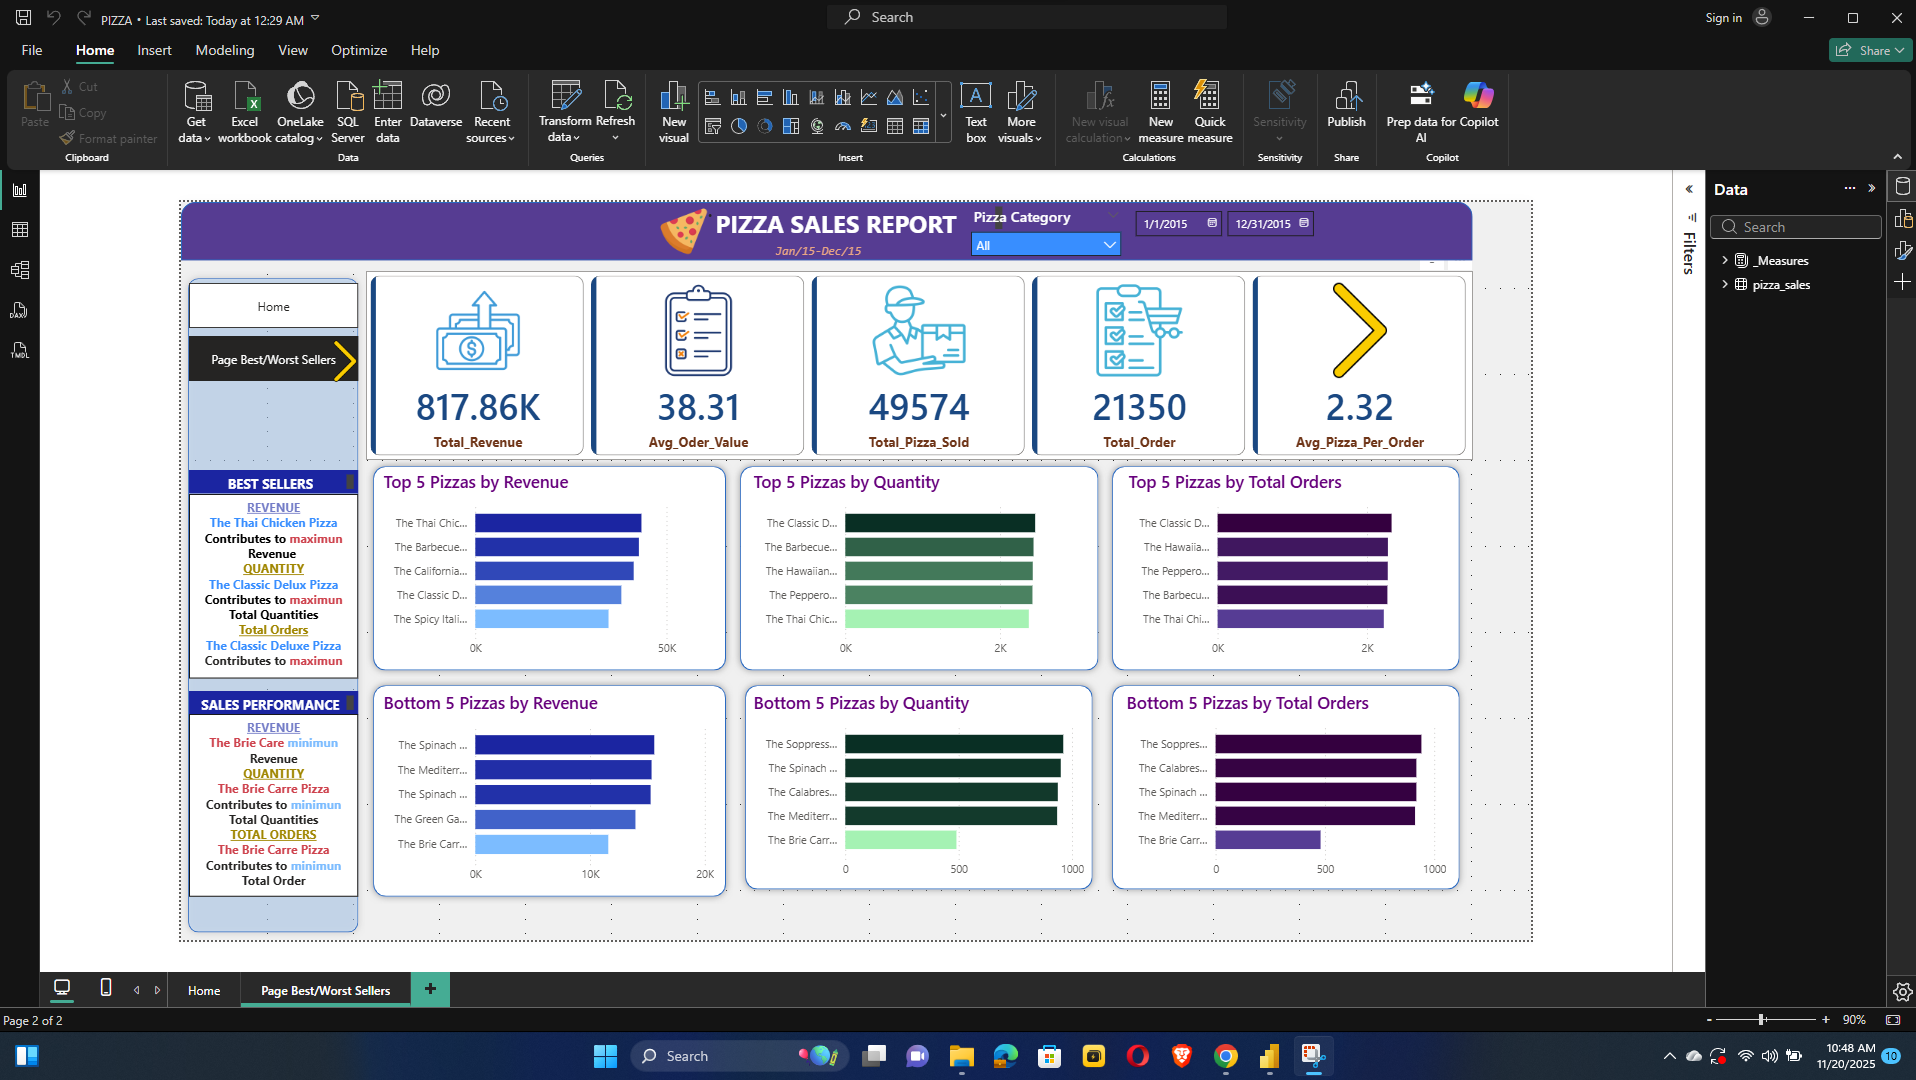

Layout of this report page (visuals, bound fields, positions):
{"tool":"powerbi","page":{"name":"Page Best/Worst Sellers","canvas":[1500,820],"ordinal":1},"visuals":[{"type":"shape","box":[0,77,205,743],"z":0},{"type":"textbox","box":[9,298,188,26],"z":1000},{"type":"cardVisual","fields":{"Data":["_Measures.Total_Revenue","_Measures.Avg_Oder_Value","_Measures.Total_Pizza_Sold","_Measures.Total_Order","_Measures.Avg_Pizza_Per_Order"]},"box":[205,76.2,1230,210],"z":2000},{"type":"shape","box":[0,0,1435,65],"z":3000},{"type":"textbox","box":[526.2,0,391.2,40],"z":4000},{"type":"textbox","box":[655,40,123.8,27.5],"z":5000},{"type":"image","box":[526.2,0,63.8,65],"z":6000},{"type":"shape","box":[205,286,408,243],"z":7000},{"type":"shape","box":[613,286,414,243],"z":8000},{"type":"shape","box":[1027,286,402,243],"z":9000},{"type":"textbox","box":[9,324,188,205],"z":10000},{"type":"textbox","box":[9,543,188,26],"z":11000},{"type":"textbox","box":[9,569,188,203],"z":12000},{"type":"slicer","fields":{"Values":["pizza_sales.pizza_category"]},"box":[868,0,187,65],"z":13000},{"type":"slicer","fields":{"Values":["pizza_sales.order_date"]},"box":[1048,0,232,65],"z":14000},{"type":"shape","box":[205,529,408,251],"z":15000},{"type":"shape","box":[1027,529,402,243],"z":16000},{"type":"shape","box":[619,529,402,243],"z":17000},{"type":"clusteredBarChart","title":"Top 5 Pizzas by Revenue","fields":{"Category":["pizza_sales.pizza_name"],"Y":["_Measures.Total_Revenue"]},"box":[220,298,377,216],"z":18000},{"type":"clusteredBarChart","title":"Bottom 5 Pizzas by Revenue","fields":{"Category":["pizza_sales.pizza_name"],"Y":["_Measures.Total_Revenue"]},"box":[220,543,377,222],"z":18001},{"type":"clusteredBarChart","title":"Top 5 Pizzas by Quantity","fields":{"Category":["pizza_sales.pizza_name"],"Y":["_Measures.Total_Pizza_Sold"]},"box":[631,298,377,216],"z":18002},{"type":"clusteredBarChart","title":"Bottom 5 Pizzas by Quantity","fields":{"Category":["pizza_sales.pizza_name"],"Y":["_Measures.Total_Pizza_Sold"]},"box":[631,543,377,216],"z":18003},{"type":"clusteredBarChart","title":"Top 5 Pizzas by Total Orders","fields":{"Category":["pizza_sales.pizza_name"],"Y":["_Measures.Total_Order"]},"box":[1048,298,365,216],"z":18004},{"type":"clusteredBarChart","title":"Bottom 5 Pizzas by Total Orders","fields":{"Category":["pizza_sales.pizza_name"],"Y":["_Measures.Total_Order"]},"box":[1045,543,365,216],"z":18005},{"type":"pageNavigator","box":[9,90,188,50],"z":18006},{"type":"pageNavigator","box":[9,149,188,50],"z":18007},{"type":"image","box":[146,149,74,56],"z":18008}]}

Visuals, with their boxes on the page's 1500x820 design canvas (x1, y1, x2, y2). These are canvas units, not pixel positions in the 1916x1080 screenshot, which may show the page scaled, cropped or inside an application window:
shape: (x1=0, y1=77, x2=205, y2=820)
textbox: (x1=9, y1=298, x2=197, y2=324)
cardVisual - _Measures.Total_Revenue x _Measures.Avg_Oder_Value: (x1=205, y1=76, x2=1435, y2=286)
shape: (x1=0, y1=0, x2=1435, y2=65)
textbox: (x1=526, y1=0, x2=917, y2=40)
textbox: (x1=655, y1=40, x2=779, y2=68)
image: (x1=526, y1=0, x2=590, y2=65)
shape: (x1=205, y1=286, x2=613, y2=529)
shape: (x1=613, y1=286, x2=1027, y2=529)
shape: (x1=1027, y1=286, x2=1429, y2=529)
textbox: (x1=9, y1=324, x2=197, y2=529)
textbox: (x1=9, y1=543, x2=197, y2=569)
textbox: (x1=9, y1=569, x2=197, y2=772)
slicer - pizza_sales.pizza_category: (x1=868, y1=0, x2=1055, y2=65)
slicer - pizza_sales.order_date: (x1=1048, y1=0, x2=1280, y2=65)
shape: (x1=205, y1=529, x2=613, y2=780)
shape: (x1=1027, y1=529, x2=1429, y2=772)
shape: (x1=619, y1=529, x2=1021, y2=772)
"Top 5 Pizzas by Revenue" clusteredBarChart: (x1=220, y1=298, x2=597, y2=514)
"Bottom 5 Pizzas by Revenue" clusteredBarChart: (x1=220, y1=543, x2=597, y2=765)
"Top 5 Pizzas by Quantity" clusteredBarChart: (x1=631, y1=298, x2=1008, y2=514)
"Bottom 5 Pizzas by Quantity" clusteredBarChart: (x1=631, y1=543, x2=1008, y2=759)
"Top 5 Pizzas by Total Orders" clusteredBarChart: (x1=1048, y1=298, x2=1413, y2=514)
"Bottom 5 Pizzas by Total Orders" clusteredBarChart: (x1=1045, y1=543, x2=1410, y2=759)
pageNavigator: (x1=9, y1=90, x2=197, y2=140)
pageNavigator: (x1=9, y1=149, x2=197, y2=199)
image: (x1=146, y1=149, x2=220, y2=205)
